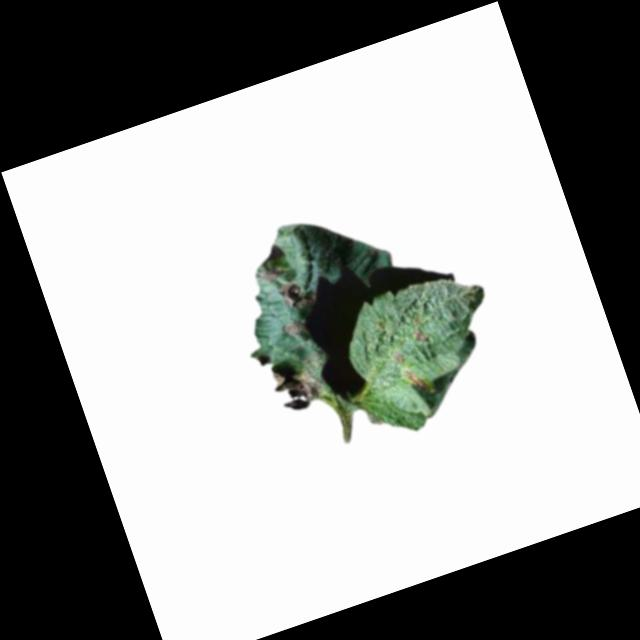Early_blight: (266, 351, 329, 416), (277, 276, 318, 313), (403, 364, 431, 395), (280, 316, 306, 338), (257, 262, 283, 283), (393, 349, 408, 367), (415, 328, 426, 340)
